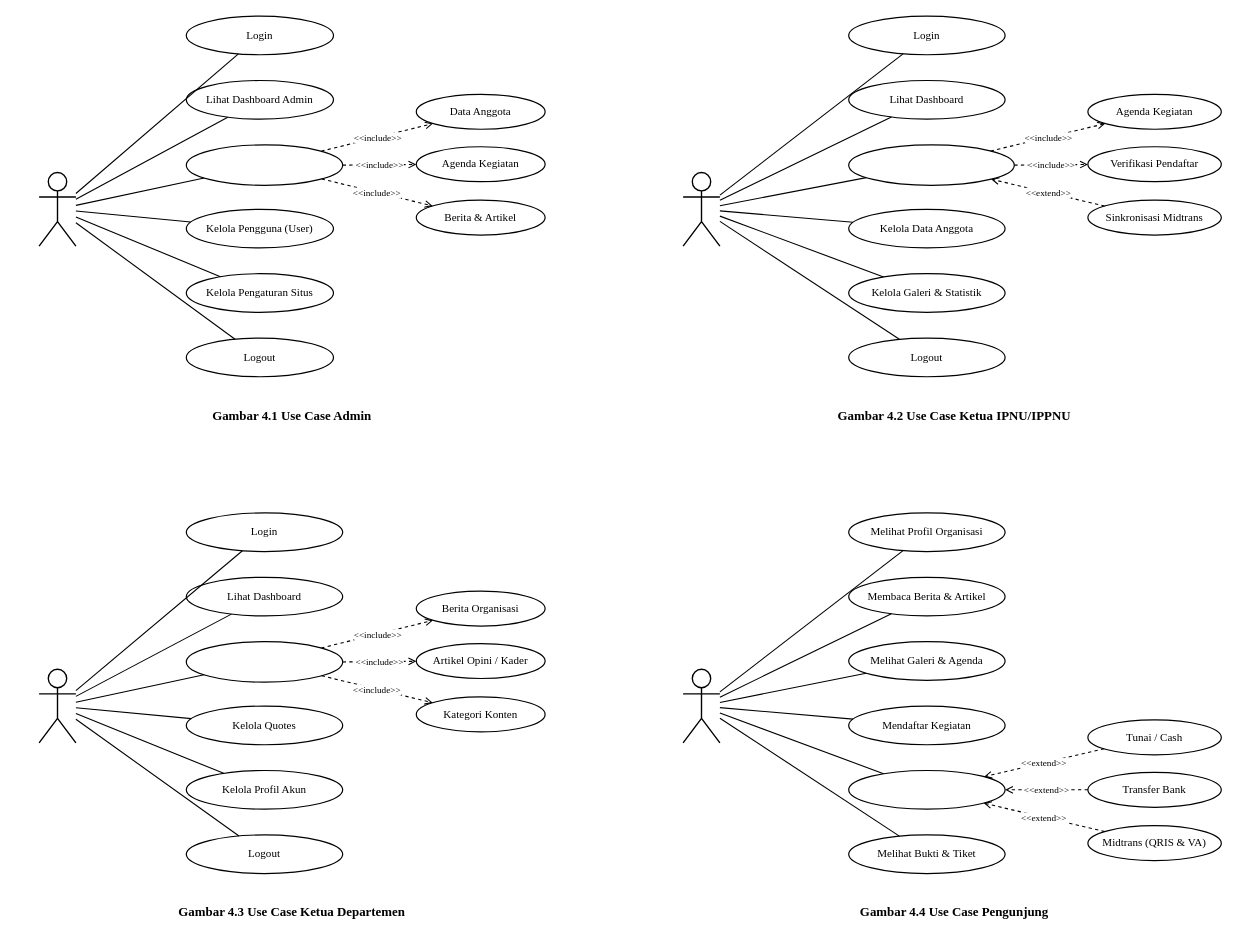
This 1238x943 diagram has some shape labels left out. The centre of each missing label's shape, as x and y in pixels:
"Admin" belongs at [57,208].
"Kelola Data Master (CRUD)" belongs at [264,165].
"Kelola Kegiatan & Pendaftar" belongs at [931,165].
"Kelola Publikasi Konten" belongs at [264,661].
"Ketua Departemen" belongs at [57,705].
"Ketua IPNU/IPPNU" belongs at [701,208].
"Melakukan Pembayaran" belongs at [926,789].
"Pengunjung" belongs at [701,705].
